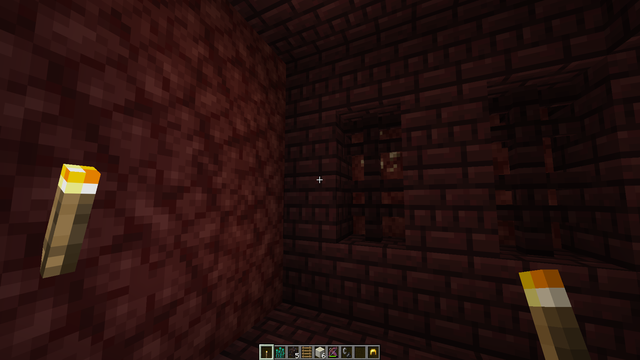quartz: (350, 127, 406, 182)
